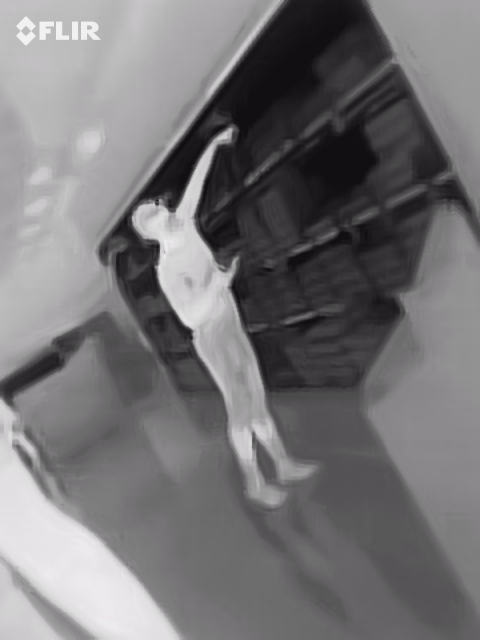head: (130, 200, 181, 243)
